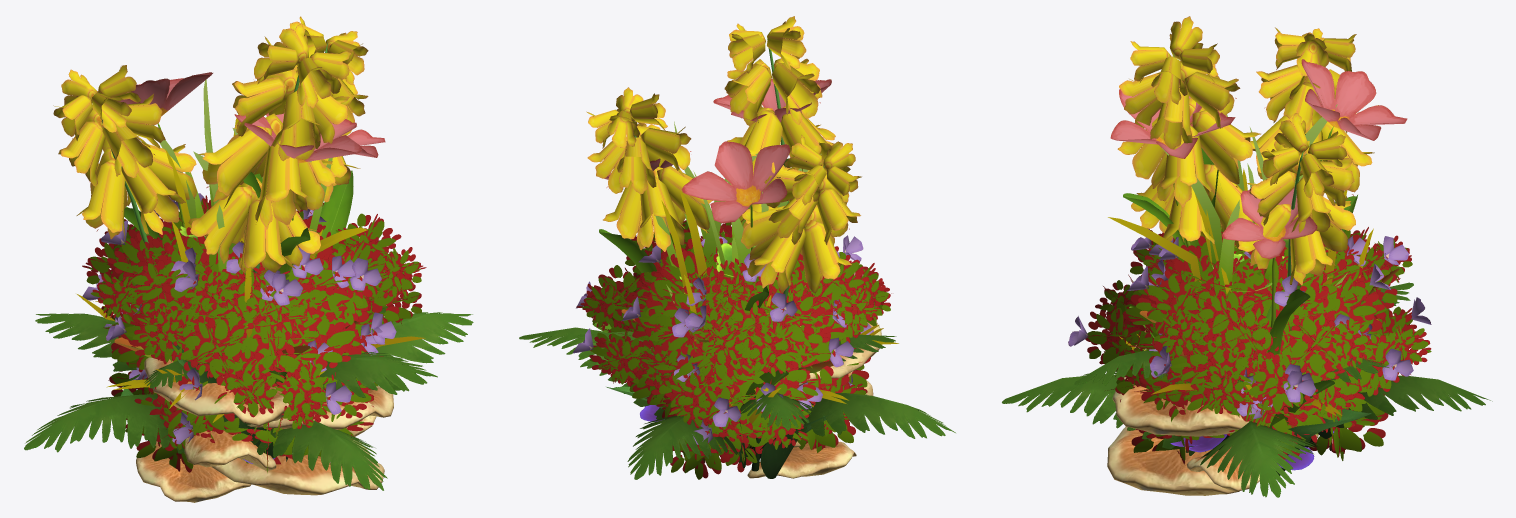
Rendered from undergrowth.glb.
The picture shows the model from 3 angles, left to right: view 1: azimuth 30°, elevation 25°; view 2: azimuth 150°, elevation 25°; view 3: azimuth 270°, elevation 25°; orthographic projection. The views are drawn at different scales.
Parts seen in each view (by area): view 1: q-white-flowers, q-flowering-bush, q-bush, q-fern, q-shelf-mushroom, q-blue-flowers, q-wispy-grass, q-tall-grass; view 2: q-white-flowers, q-flowering-bush, q-bush, q-fern, q-blue-flowers, q-shelf-mushroom, q-tall-grass, q-wispy-grass; view 3: q-white-flowers, q-flowering-bush, q-bush, q-fern, q-blue-flowers, q-shelf-mushroom, q-tall-grass, q-wispy-grass, q-broad-leaf.
Part boxes in pixels (x1,y1,x2,y2): q-white-flowers: (53,16,368,461); q-flowering-bush: (82,193,421,472); q-bush: (82,195,426,472); q-fern: (24,307,473,490); q-shelf-mushroom: (136,357,393,502); q-blue-flowers: (97,72,385,386); q-wispy-grass: (77,114,425,422); q-tall-grass: (151,79,332,282); q-white-flowers: (586,16,866,478); q-flowering-bush: (573,221,890,479); q-bush: (576,220,891,478); q-fern: (519,327,955,479); q-blue-flowers: (593,78,831,448); q-shelf-mushroom: (747,321,881,478); q-tall-grass: (655,121,821,458); q-wispy-grass: (661,191,898,462); q-white-flowers: (1117,16,1374,475); q-flowering-bush: (1068,201,1431,460); q-bush: (1085,189,1431,464); q-fern: (1002,282,1492,497); q-blue-flowers: (1110,59,1407,440); q-shelf-mushroom: (1107,329,1318,495); q-tall-grass: (1162,104,1337,442); q-wispy-grass: (1108,168,1393,450); q-broad-leaf: (1170,431,1334,470).
Bounding box in the file's own units: 2.83 × 2.66 × 2.65.
6 materials, 6 textured.
